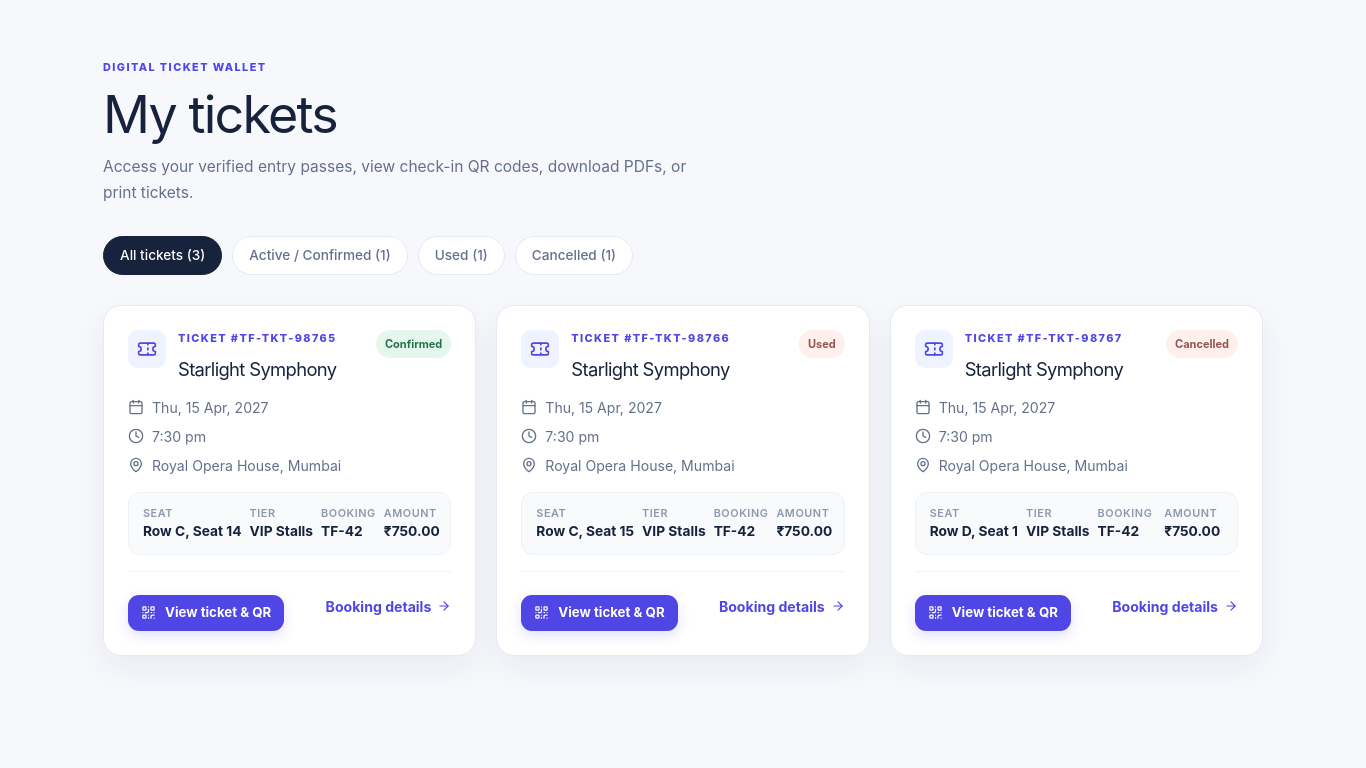
Test: Phase 2 – Customer Ticket Wallet UI › filters tickets by status chips in wallet
Check: the text "TICKET #TF-TKT-98765" is shown, box [178,330,336,348]
Check: the text "TICKET #TF-TKT-98766" is shown, box [571,330,730,348]
# Filter to Used tickets
Click the button "Used (1)" at (461, 256), box [418,236,505,275]
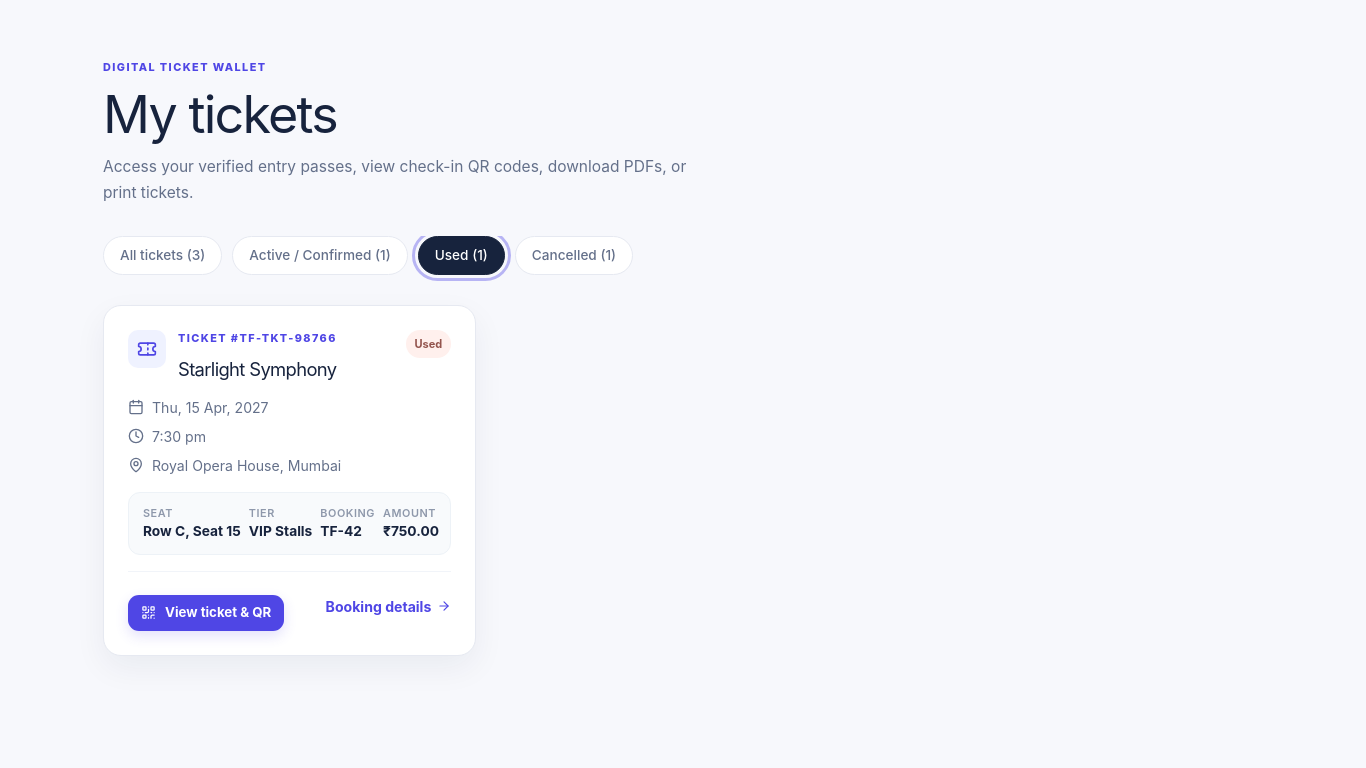
Check: the text "TICKET #TF-TKT-98766" is shown, box [178,330,337,348]
Check: the text "TICKET #TF-TKT-98765" is gone
Check: the text "TICKET #TF-TKT-98767" is gone
